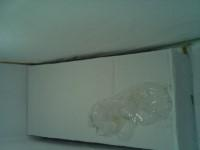bottle: (87, 0, 173, 36)
